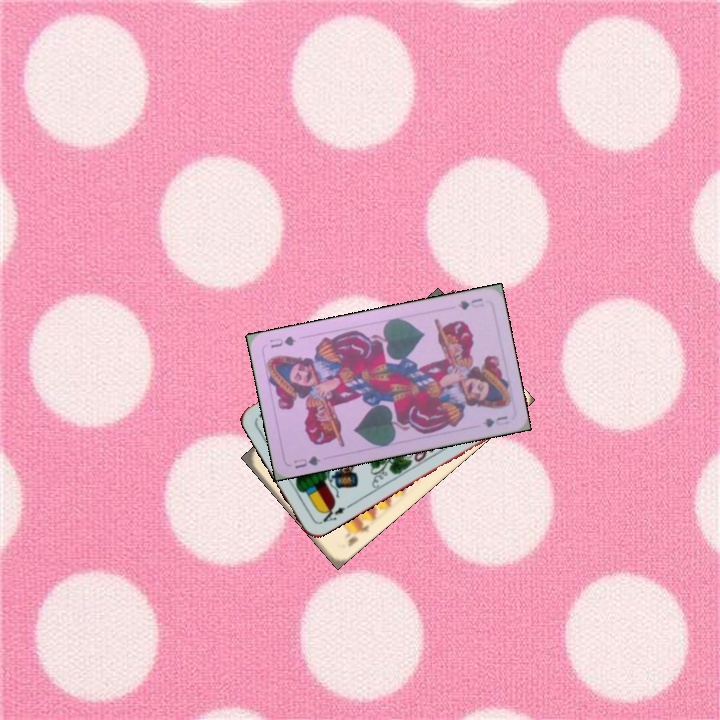E10: (340, 517, 372, 549)
EA: (317, 501, 348, 524)
GU: (289, 452, 323, 472), (453, 294, 486, 313)
